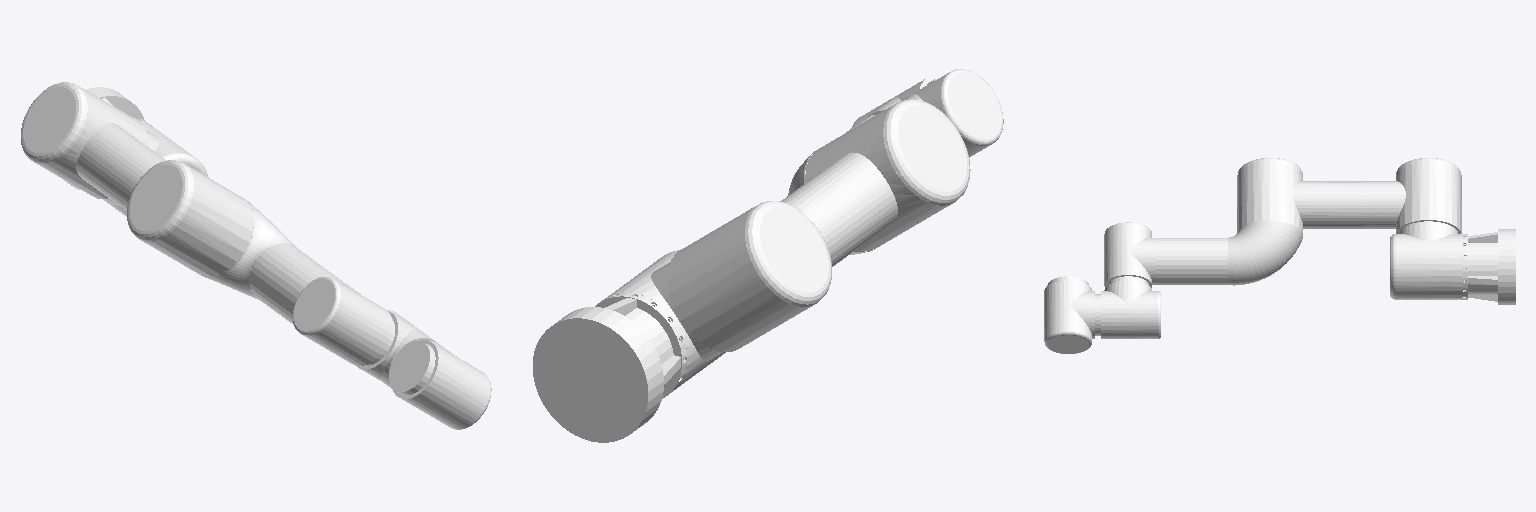
URDF robot description (single_robot_arm):
<?xml version="1.0" encoding="utf-8"?>
<!-- This URDF was automatically created by SolidWorks to URDF Exporter! Originally created by Stephen Brawner (brawner@gmail.com) 
     Commit Version: 1.6.0-4-g7f85cfe  Build Version: 1.6.7995.38578
     For more information, please see http://wiki.ros.org/sw_urdf_exporter -->
<robot
  name="single_robot_arm">
  <link
    name="dz_link">
    <inertial>
      <origin
        xyz="-1.31365444379729E-10 -4.15748033937388E-10 0.0397768073049284"
        rpy="0 0 0" />
      <mass
        value="0.835551002421824" />
      <inertia
        ixx="0.001285043562431"
        ixy="4.80150358498104E-12"
        ixz="3.89629037129415E-12"
        iyy="0.00128504357988057"
        iyz="2.82181799021155E-11"
        izz="0.00134667669307557" />
    </inertial>
    <visual>
      <origin
        xyz="0 0 0"
        rpy="0 0 0" />
      <geometry>
        <mesh
          filename="package://single_robot_arm/meshes/dz_link.STL" />
      </geometry>
      <material
        name="">
        <color
          rgba="1 1 1 1" />
      </material>
    </visual>
    <collision>
      <origin
        xyz="0 0 0"
        rpy="0 0 0" />
      <geometry>
        <mesh
          filename="package://single_robot_arm/meshes/dz_link.STL" />
      </geometry>
    </collision>
  </link>
  <link
    name="jb_Link">
    <inertial>
      <origin
        xyz="-0.0038504 0.059295 -2.6962E-08"
        rpy="0 0 0" />
      <mass
        value="1.2238" />
      <inertia
        ixx="0.0023351"
        ixy="-2.0236E-05"
        ixz="9.8975E-11"
        iyy="0.0020274"
        iyz="-4.1432E-09"
        izz="0.0024751" />
    </inertial>
    <visual>
      <origin
        xyz="0 0 0"
        rpy="0 0 0" />
      <geometry>
        <mesh
          filename="package://single_robot_arm/meshes/jb_Link.STL" />
      </geometry>
      <material
        name="">
        <color
          rgba="1 1 1 1" />
      </material>
    </visual>
    <collision>
      <origin
        xyz="0 0 0"
        rpy="0 0 0" />
      <geometry>
        <mesh
          filename="package://single_robot_arm/meshes/jb_Link.STL" />
      </geometry>
    </collision>
  </link>
  <joint
    name="jb_Joint"
    type="fixed">
    <origin
      xyz="0 -0.09 0"
      rpy="-3.1416 0.67061 0" />
    <parent
      link="dz_link" />
    <child
      link="jb_Link" />
    <axis
      xyz="0 0 0" />
    <limit
      lower="-3.14"
      upper="3.14"
      effort="0"
      velocity="0" />
  </joint>
  <link
    name="b1_Link">
    <inertial>
      <origin
        xyz="0.13200000414299 -0.0132927605628324 -0.0568800499042117"
        rpy="0 0 0" />
      <mass
        value="3.08015953797015" />
      <inertia
        ixx="0.00506887571584958"
        ixy="-1.05715047303745E-08"
        ixz="2.43146221044967E-09"
        iyy="0.0459592805063873"
        iyz="-0.000216072807368031"
        izz="0.0450851648502817" />
    </inertial>
    <visual>
      <origin
        xyz="0 0 0"
        rpy="0 0 0" />
      <geometry>
        <mesh
          filename="package://single_robot_arm/meshes/b1_Link.STL" />
      </geometry>
      <material
        name="">
        <color
          rgba="1 1 1 1" />
      </material>
    </visual>
    <collision>
      <origin
        xyz="0 0 0"
        rpy="0 0 0" />
      <geometry>
        <mesh
          filename="package://single_robot_arm/meshes/b1_Link.STL" />
      </geometry>
    </collision>
  </link>
  <joint
    name="b1_Joint"
    type="fixed">
    <origin
      xyz="-0.06 0.319 0"
      rpy="-1.3412 0 -1.5708" />
    <parent
      link="jb_Link" />
    <child
      link="b1_Link" />
    <axis
      xyz="0 0 0" />
  </joint>
  <link
    name="b2_Link">
    <inertial>
      <origin
        xyz="0.0744408041420845 -0.0423378330923048 4.65567044118098E-08"
        rpy="0 0 0" />
      <mass
        value="1.23568431273335" />
      <inertia
        ixx="0.00115971354568489"
        ixy="0.000168413876624566"
        ixz="-1.62266410306714E-09"
        iyy="0.00191944842014932"
        iyz="3.08002308987277E-10"
        izz="0.00185350630448597" />
    </inertial>
    <visual>
      <origin
        xyz="0 0 0"
        rpy="0 0 0" />
      <geometry>
        <mesh
          filename="package://single_robot_arm/meshes/b2_Link.STL" />
      </geometry>
      <material
        name="">
        <color
          rgba="1 1 1 1" />
      </material>
    </visual>
    <collision>
      <origin
        xyz="0 0 0"
        rpy="0 0 0" />
      <geometry>
        <mesh
          filename="package://single_robot_arm/meshes/b2_Link.STL" />
      </geometry>
    </collision>
  </link>
  <joint
    name="b2_Joint"
    type="fixed">
    <origin
      xyz="0 0 0"
      rpy="-1.3412 0 3.1416" />
    <parent
      link="b1_Link" />
    <child
      link="b2_Link" />
    <axis
      xyz="0 0 0" />
  </joint>
  <link
    name="c1_Link">
    <inertial>
      <origin
        xyz="0.0034826 -0.010439 -0.044667"
        rpy="0 0 0" />
      <mass
        value="0.59536" />
      <inertia
        ixx="0.0007891"
        ixy="-4.1082E-07"
        ixz="-1.7581E-06"
        iyy="0.00081066"
        iyz="-6.5071E-05"
        izz="0.00054743" />
    </inertial>
    <visual>
      <origin
        xyz="0 0 0"
        rpy="0 0 0" />
      <geometry>
        <mesh
          filename="package://single_robot_arm/meshes/c1_Link.STL" />
      </geometry>
      <material
        name="">
        <color
          rgba="1 1 1 1" />
      </material>
    </visual>
    <collision>
      <origin
        xyz="0 0 0"
        rpy="0 0 0" />
      <geometry>
        <mesh
          filename="package://single_robot_arm/meshes/c1_Link.STL" />
      </geometry>
    </collision>
  </link>
  <joint
    name="c1_Joint"
    type="fixed">
    <origin
      xyz="0.237 -0.095 0"
      rpy="-1.3412 0 -3.1416" />
    <parent
      link="b2_Link" />
    <child
      link="c1_Link" />
    <axis
      xyz="0 0 0" />
  </joint>
  <link
    name="c2_Link">
    <inertial>
      <origin
        xyz="0.0034826540454793 0.0458708044910595 1.04905675890206E-08"
        rpy="0 0 0" />
      <mass
        value="0.595356973503923" />
      <inertia
        ixx="0.000789102668904214"
        ixy="1.80554567819363E-06"
        ixz="-9.54072415297574E-11"
        iyy="0.000532220170155014"
        iyz="-6.98467373143675E-11"
        izz="0.000825871370172609" />
    </inertial>
    <visual>
      <origin
        xyz="0 0 0"
        rpy="0 0 0" />
      <geometry>
        <mesh
          filename="package://single_robot_arm/meshes/c2_Link.STL" />
      </geometry>
      <material
        name="">
        <color
          rgba="1 1 1 1" />
      </material>
    </visual>
    <collision>
      <origin
        xyz="0 0 0"
        rpy="0 0 0" />
      <geometry>
        <mesh
          filename="package://single_robot_arm/meshes/c2_Link.STL" />
      </geometry>
    </collision>
  </link>
  <joint
    name="c2_Joint"
    type="fixed">
    <origin
      xyz="-0.045 0.012516 0.053557"
      rpy="0 1.3412 -1.5708" />
    <parent
      link="c1_Link" />
    <child
      link="c2_Link" />
    <axis
      xyz="0 0 0" />
  </joint>
  <link
    name="s1_Link">
    <inertial>
      <origin
        xyz="0.0034826 0.045871 -4.9542E-09"
        rpy="0 0 0" />
      <mass
        value="0.59536" />
      <inertia
        ixx="0.0007891"
        ixy="1.8055E-06"
        ixz="5.3402E-11"
        iyy="0.00053222"
        iyz="-2.5767E-11"
        izz="0.00082587" />
    </inertial>
    <visual>
      <origin
        xyz="0 0 0"
        rpy="0 0 0" />
      <geometry>
        <mesh
          filename="package://single_robot_arm/meshes/s1_Link.STL" />
      </geometry>
      <material
        name="">
        <color
          rgba="1 1 1 1" />
      </material>
    </visual>
    <collision>
      <origin
        xyz="0 0 0"
        rpy="0 0 0" />
      <geometry>
        <mesh
          filename="package://single_robot_arm/meshes/s1_Link.STL" />
      </geometry>
    </collision>
  </link>
  <joint
    name="s1_Joint"
    type="fixed">
    <origin
      xyz="0.045 -0.055 0"
      rpy="0 0 1.5708" />
    <parent
      link="c2_Link" />
    <child
      link="s1_Link" />
    <axis
      xyz="0 0 0" />
    <limit
      lower="-3.14"
      upper="3.14"
      effort="0"
      velocity="0" />
  </joint>
</robot>

--- Facts derived from the render (not from the file) ---
Views: 3 orthographic renders of the robot side by side, from view 1: azimuth 30°, elevation 25°; view 2: azimuth 150°, elevation 25°; view 3: azimuth 270°, elevation 25°.
Robot: single_robot_arm — 7 links, 6 joints (6 fixed); root link dz_link; default pose: every joint at zero.
Links seen in each view (by area): view 1: b1_Link, s1_Link, c1_Link, b2_Link, c2_Link, jb_Link, dz_link; view 2: b1_Link, dz_link, c1_Link, jb_Link, s1_Link; view 3: b1_Link, b2_Link, jb_Link, dz_link, s1_Link, c2_Link, c1_Link.
Boxes of the visible links, x1,y1,x2,y2 form: b1_Link: (21,82,253,276); s1_Link: (389,340,491,429); c1_Link: (293,277,394,365); b2_Link: (201,201,341,324); c2_Link: (357,310,436,389); jb_Link: (103,121,208,216); dz_link: (64,87,151,189); b1_Link: (667,99,970,352); dz_link: (533,293,686,442); c1_Link: (901,69,1003,157); jb_Link: (608,250,725,389); s1_Link: (852,75,941,127); b1_Link: (1237,158,1461,233); b2_Link: (1155,220,1302,285); jb_Link: (1390,221,1461,299); dz_link: (1462,229,1515,304); s1_Link: (1044,276,1094,353); c2_Link: (1095,280,1160,338); c1_Link: (1104,222,1154,287).
Bounding box of the posed robot: 0.3075 × 0.786 × 0.2703 m (x, y, z).
7 mesh visuals loaded from 7 distinct referenced files (7 binary STL).
